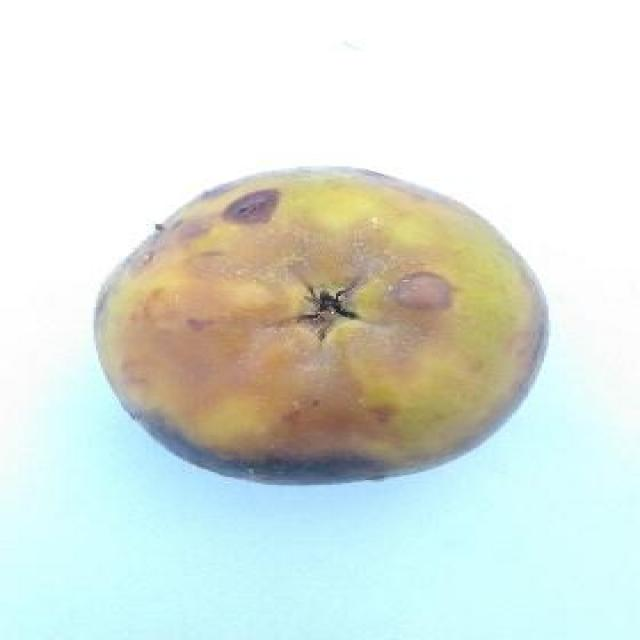Rotten: (104, 183, 531, 487)
